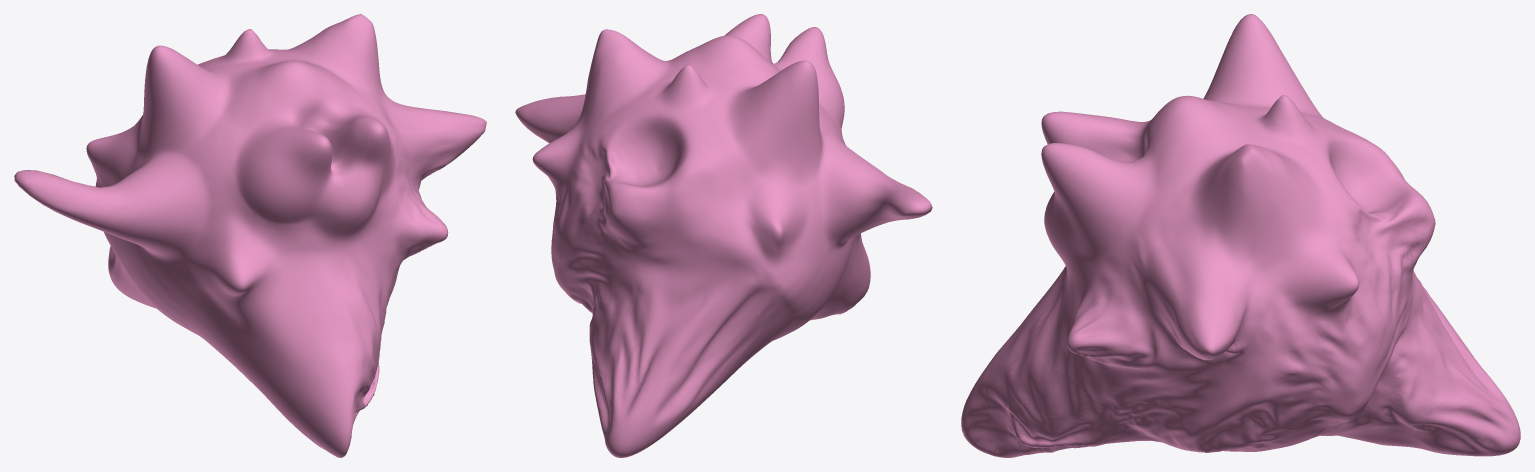
Rendered from essaies.glb.
The picture shows the model from 3 angles, left to right: view 1: azimuth 30°, elevation 25°; view 2: azimuth 150°, elevation 25°; view 3: azimuth 270°, elevation 25°; orthographic projection. The views are drawn at different scales.
Parts seen in each view (by area): view 1: Cube; view 2: Cube; view 3: Cube.
Part boxes in pixels (x1,y1,x2,y2): Cube: (14, 14, 486, 457); Cube: (515, 14, 932, 457); Cube: (961, 14, 1520, 457).
Bounding box in the file's own units: 2.87 × 2.13 × 2.7.
